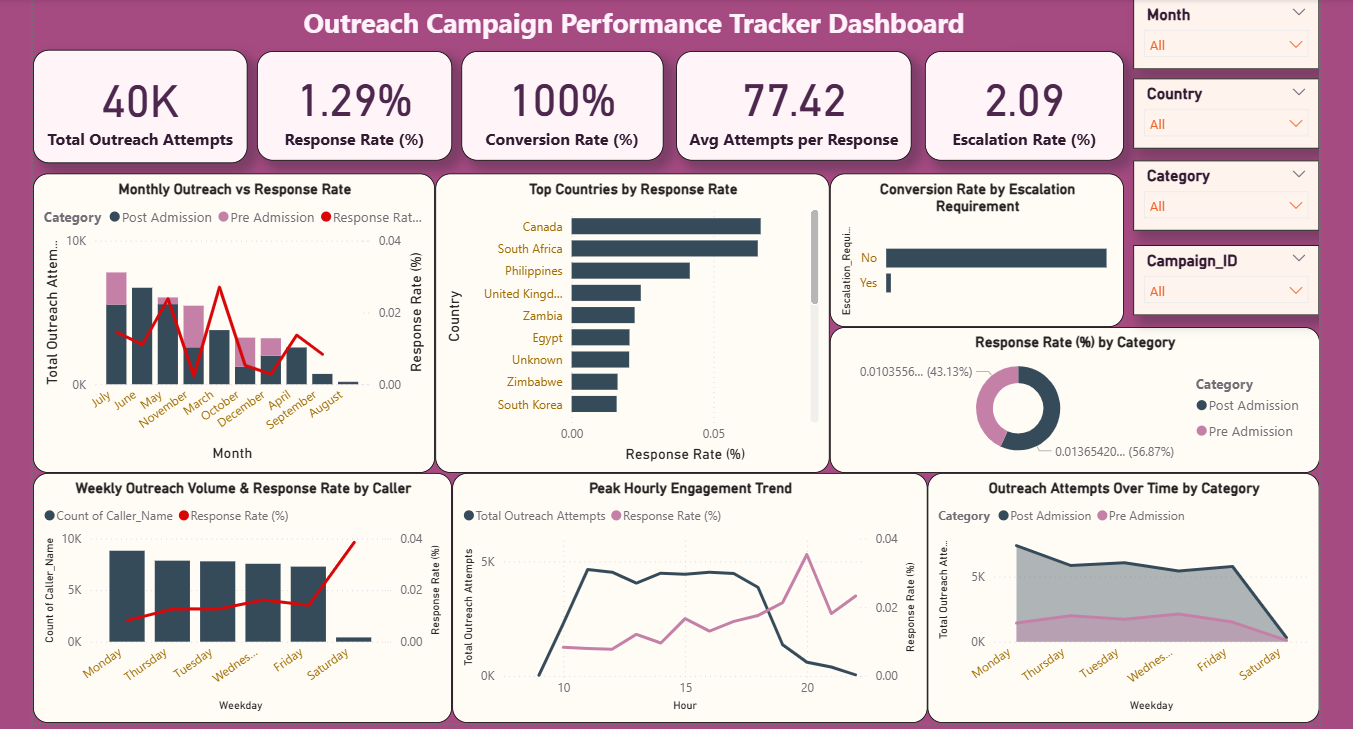

Layout of this report page (visuals, bound fields, positions):
{"tool":"powerbi","page":{"name":"Page 1","canvas":[1280,720],"ordinal":0},"visuals":[{"type":"card","fields":{"Values":["Cleaned_Outreach_Campaign_Applicants_FinalData.Total Outreach Attempts"]},"box":[0,50.5,213.8,112.8],"z":0},{"type":"card","fields":{"Values":["Cleaned_Outreach_Campaign_Applicants_FinalData.Response Rate (%)"]},"box":[222.9,51.8,194.4,108.9],"z":1000},{"type":"card","fields":{"Values":["Cleaned_Outreach_Campaign_Applicants_FinalData.Conversion Rate (%)"]},"box":[426.4,51.8,200.9,108.9],"z":2000},{"type":"card","fields":{"Values":["Cleaned_Outreach_Campaign_Applicants_FinalData.Avg Attempts per Response"]},"box":[640.3,51.8,234.6,108.9],"z":3000},{"type":"card","fields":{"Values":["Cleaned_Outreach_Campaign_Applicants_FinalData.Escalation Rate (%)"]},"box":[887.8,51.8,198.3,108.9],"z":4000},{"type":"lineStackedColumnComboChart","title":"Monthly Outreach vs Response Rate","fields":{"Category":["Cleaned_Outreach_Campaign_Applicants_FinalData.Month"],"Y":["Cleaned_Outreach_Campaign_Applicants_FinalData.Total Outreach Attempts"],"Y2":["Cleaned_Outreach_Campaign_Applicants_FinalData.Response Rate (%)"],"Series":["Cleaned_Outreach_Campaign_Applicants_FinalData.Category"]},"box":[0,173.7,400.5,298.1],"z":5000},{"type":"donutChart","fields":{"Category":["Cleaned_Outreach_Campaign_Applicants_FinalData.Category"],"Y":["Cleaned_Outreach_Campaign_Applicants_FinalData.Response Rate (%)"]},"box":[793.2,326.6,487.3,145.2],"z":6000},{"type":"clusteredBarChart","title":"Conversion Rate by Escalation Requirement","fields":{"Category":["Cleaned_Outreach_Campaign_Applicants_FinalData.Escalation_Required"],"Y":["Sum(Cleaned_Outreach_Campaign_Applicants_FinalData.Is_Converted)"]},"box":[793.2,173.7,292.9,152.9],"z":7000},{"type":"clusteredBarChart","title":"Top Countries by Response Rate","fields":{"Category":["Cleaned_Outreach_Campaign_Applicants_FinalData.Country"],"Y":["Cleaned_Outreach_Campaign_Applicants_FinalData.Response Rate (%)"]},"box":[400.5,173.7,392.7,298.1],"z":8000},{"type":"areaChart","title":"Outreach Attempts Over Time by Category","fields":{"Category":["Cleaned_Outreach_Campaign_Applicants_FinalData.Weekday"],"Y":["Cleaned_Outreach_Campaign_Applicants_FinalData.Total Outreach Attempts"],"Series":["Cleaned_Outreach_Campaign_Applicants_FinalData.Category"]},"box":[890.4,471.8,390.1,248.8],"z":9000},{"type":"lineClusteredColumnComboChart","title":"Weekly Outreach Volume & Response Rate by Caller","fields":{"Category":["Cleaned_Outreach_Campaign_Applicants_FinalData.Weekday"],"Y2":["Cleaned_Outreach_Campaign_Applicants_FinalData.Response Rate (%)"],"Y":["CountNonNull(Cleaned_Outreach_Campaign_Applicants_FinalData.Caller_Name)"]},"box":[0,471.8,417.3,248.8],"z":10000},{"type":"lineChart","title":"Peak Hourly Engagement Trend","fields":{"Category":["Cleaned_Outreach_Campaign_Applicants_FinalData.Hour"],"Y":["Cleaned_Outreach_Campaign_Applicants_FinalData.Total Outreach Attempts"],"Y2":["Cleaned_Outreach_Campaign_Applicants_FinalData.Response Rate (%)"]},"box":[417.3,471.8,473.1,248.8],"z":11000},{"type":"slicer","fields":{"Values":["Cleaned_Outreach_Campaign_Applicants_FinalData.Month"]},"box":[1095.2,0,185.3,70],"z":12000},{"type":"slicer","fields":{"Values":["Cleaned_Outreach_Campaign_Applicants_FinalData.Country"]},"box":[1095.2,79.1,185.3,70],"z":13000},{"type":"slicer","fields":{"Values":["Cleaned_Outreach_Campaign_Applicants_FinalData.Category"]},"box":[1095.2,160.7,185.3,70],"z":14000},{"type":"slicer","fields":{"Values":["Cleaned_Outreach_Campaign_Applicants_FinalData.Campaign_ID"]},"box":[1095.2,245,185.3,70],"z":15000},{"type":"textbox","box":[222.9,0,750.4,48],"z":16000}]}

Visuals, with their boxes in screenshot pixels (x1, y1, x2, y2):
card - Cleaned_Outreach_Campaign_Applicants_FinalData.Total Outreach Attempts: (x1=32, y1=50, x2=245, y2=163)
card - Cleaned_Outreach_Campaign_Applicants_FinalData.Response Rate (%): (x1=254, y1=52, x2=449, y2=161)
card - Cleaned_Outreach_Campaign_Applicants_FinalData.Conversion Rate (%): (x1=458, y1=52, x2=658, y2=161)
card - Cleaned_Outreach_Campaign_Applicants_FinalData.Avg Attempts per Response: (x1=671, y1=52, x2=906, y2=161)
card - Cleaned_Outreach_Campaign_Applicants_FinalData.Escalation Rate (%): (x1=919, y1=52, x2=1117, y2=161)
"Monthly Outreach vs Response Rate" lineStackedColumnComboChart: (x1=32, y1=174, x2=432, y2=471)
donutChart - Cleaned_Outreach_Campaign_Applicants_FinalData.Category x Cleaned_Outreach_Campaign_Applicants_FinalData.Response Rate (%): (x1=824, y1=326, x2=1311, y2=471)
"Conversion Rate by Escalation Requirement" clusteredBarChart: (x1=824, y1=174, x2=1117, y2=326)
"Top Countries by Response Rate" clusteredBarChart: (x1=432, y1=174, x2=824, y2=471)
"Outreach Attempts Over Time by Category" areaChart: (x1=921, y1=471, x2=1311, y2=720)
"Weekly Outreach Volume & Response Rate by Caller" lineClusteredColumnComboChart: (x1=32, y1=471, x2=449, y2=720)
"Peak Hourly Engagement Trend" lineChart: (x1=449, y1=471, x2=921, y2=720)
slicer - Cleaned_Outreach_Campaign_Applicants_FinalData.Month: (x1=1126, y1=0, x2=1311, y2=70)
slicer - Cleaned_Outreach_Campaign_Applicants_FinalData.Country: (x1=1126, y1=79, x2=1311, y2=149)
slicer - Cleaned_Outreach_Campaign_Applicants_FinalData.Category: (x1=1126, y1=161, x2=1311, y2=230)
slicer - Cleaned_Outreach_Campaign_Applicants_FinalData.Campaign_ID: (x1=1126, y1=245, x2=1311, y2=315)
textbox: (x1=254, y1=0, x2=1004, y2=48)
